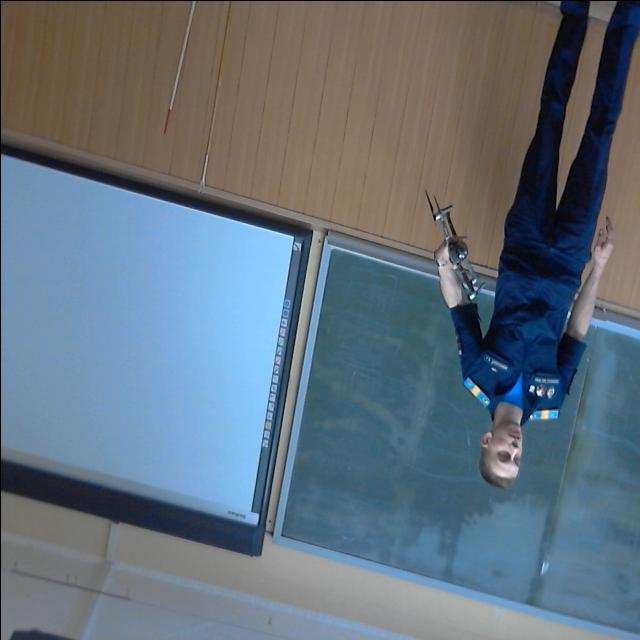drone: (418, 172, 484, 322)
